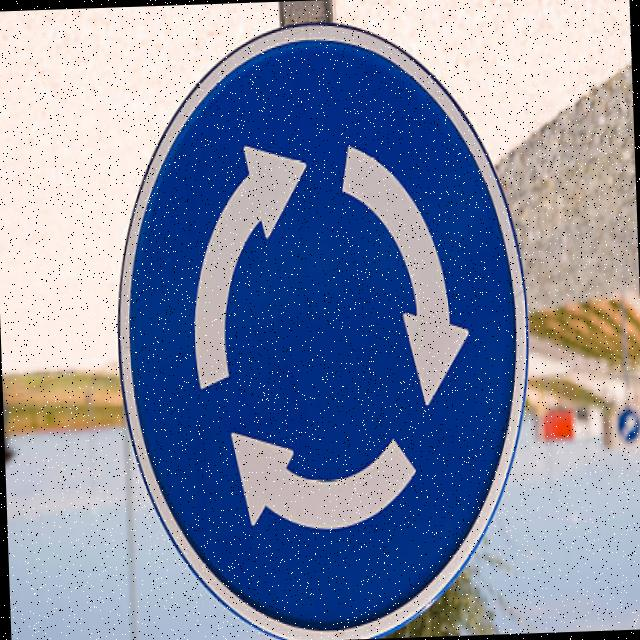round_about: (106, 4, 538, 640)
